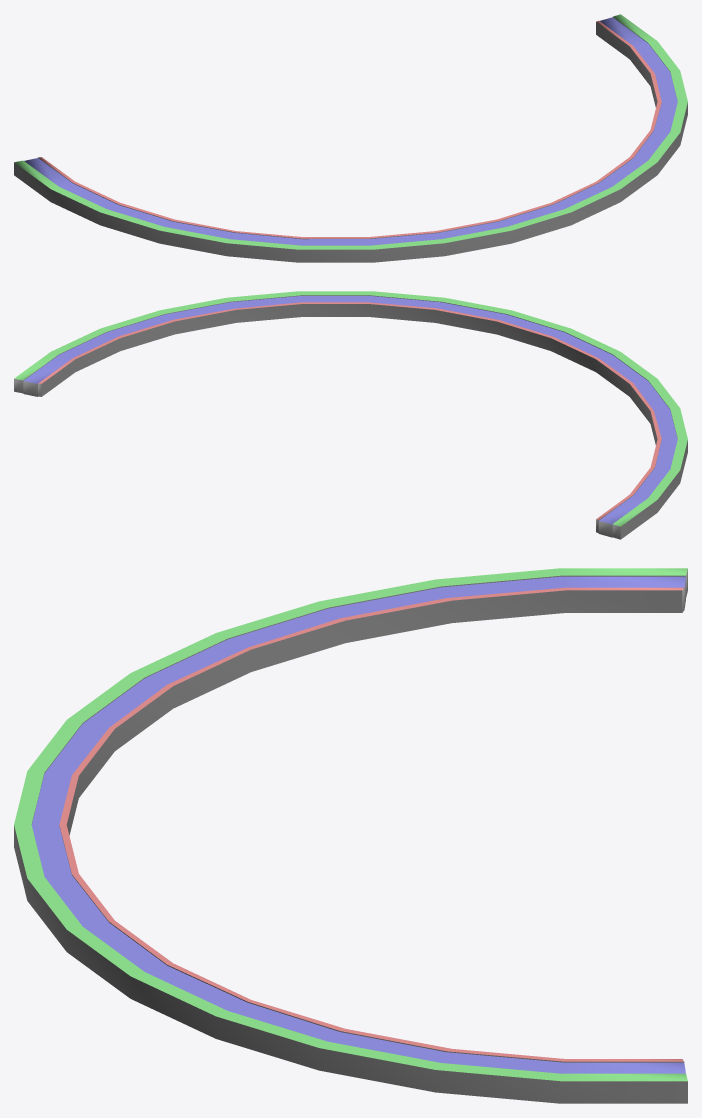
Rendered from hed_enterance14.gltf.
3 views of the same model, one above another, from view 1: azimuth 30°, elevation 25°; view 2: azimuth 150°, elevation 25°; view 3: azimuth 270°, elevation 25° (orthographic). The views are drawn at different scales.
Visible parts, largest first — view 1: hed_enterance14; view 2: hed_enterance14; view 3: hed_enterance14.
Part boxes in pixels (bbox=[...]): hed_enterance14: bbox=[14, 14, 687, 262]; hed_enterance14: bbox=[14, 291, 687, 539]; hed_enterance14: bbox=[14, 568, 687, 1103].
Bounding box in the file's own units: 22.43 × 0.4776 × 12.45.
